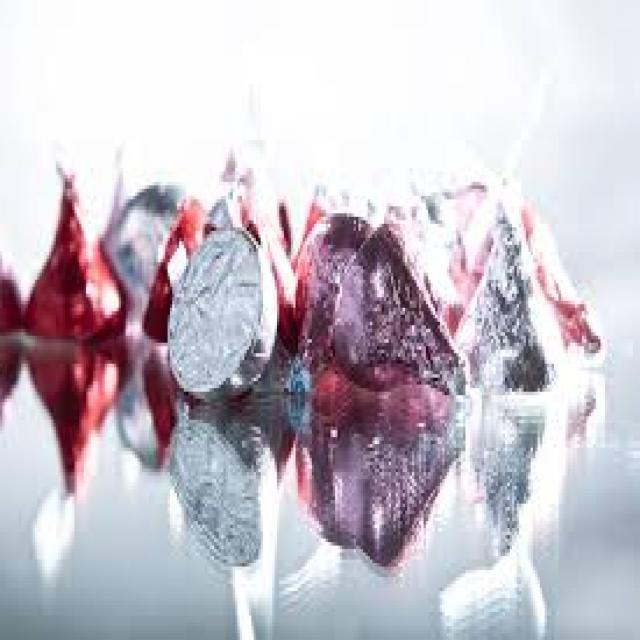kisses: (445, 190, 565, 402), (161, 222, 285, 407)
